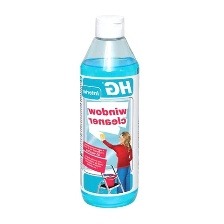cleaning_solution: (75, 12, 141, 210)
